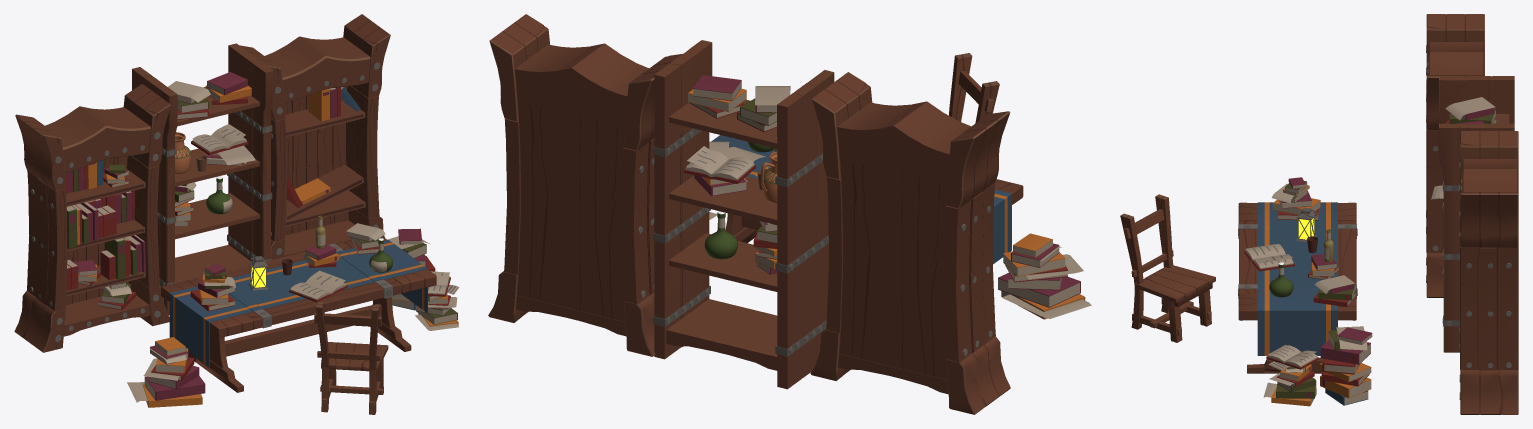
File: desk 1.fbx
The picture shows the model from 3 angles, left to right: view 1: azimuth 30°, elevation 25°; view 2: azimuth 150°, elevation 25°; view 3: azimuth 270°, elevation 25°; orthographic projection. The views are drawn at different scales.
Visible parts, largest first — view 1: Mesh_11, Mesh_13, Mesh_16, Mesh_12, Mesh_18, Mesh_10, Mesh_5, Mesh_6, Mesh_7, Mesh_9, Mesh_17, Mesh_8 (+4 smaller); view 2: Mesh_11, Mesh_13, Mesh_16, Mesh_12, Mesh_8, Mesh_9, Mesh_10, Mesh_15, Mesh_5, Mesh_6, Mesh_18, Mesh_14 (+3 smaller); view 3: Mesh_11, Mesh_13, Mesh_18, Mesh_16, Mesh_12, Mesh_10, Mesh_6, Mesh_9, Mesh_5, Mesh_7, Mesh_17, Mesh_14 (+3 smaller).
Part boxes in pixels (x1,y1,x2,y2): Mesh_11: (14,14,390,352); Mesh_13: (132,43,388,414); Mesh_16: (66,81,459,405); Mesh_12: (143,51,436,392); Mesh_18: (97,87,427,366); Mesh_10: (15,25,390,408); Mesh_5: (66,72,426,400); Mesh_6: (74,85,458,407); Mesh_7: (65,87,450,380); Mesh_9: (173,21,425,370); Mesh_17: (67,98,457,324); Mesh_8: (22,90,292,349); Mesh_11: (489,14,1010,414); Mesh_13: (654,40,999,389); Mesh_16: (685,81,1091,318); Mesh_12: (669,53,1023,378); Mesh_8: (824,80,999,406); Mesh_9: (502,22,1011,318); Mesh_10: (488,28,1009,414); Mesh_15: (653,128,828,356); Mesh_5: (693,75,1080,307); Mesh_6: (688,88,1085,319); Mesh_18: (711,135,1011,264); Mesh_14: (638,130,992,355); Mesh_11: (1426,14,1518,414); Mesh_13: (1120,76,1514,352); Mesh_18: (1257,202,1368,405); Mesh_16: (1245,97,1496,404); Mesh_12: (1238,76,1492,373); Mesh_10: (1120,14,1518,414); Mesh_6: (1264,185,1371,406); Mesh_9: (1126,131,1517,414); Mesh_5: (1279,107,1494,397); Mesh_7: (1244,117,1495,386); Mesh_17: (1276,108,1495,398); Mesh_14: (1252,45,1511,399).
Bounding box in the file's own units: 36144 × 20877 × 33539.
